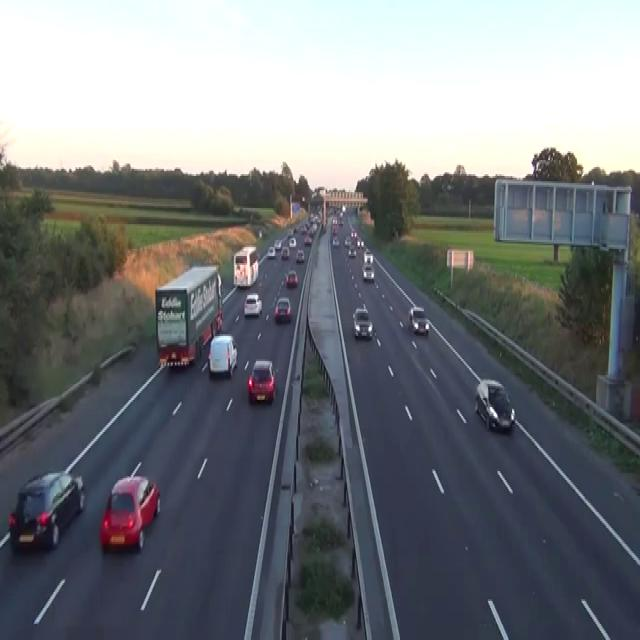Car: (8, 469, 85, 551), (99, 460, 160, 553), (474, 379, 515, 432), (207, 332, 237, 377), (247, 359, 276, 404), (352, 306, 373, 340), (408, 306, 429, 334), (243, 292, 262, 316), (274, 297, 291, 322), (286, 268, 298, 286), (362, 263, 374, 281), (363, 251, 373, 263), (296, 249, 304, 263), (281, 246, 289, 260), (267, 245, 275, 258), (348, 245, 356, 258), (273, 238, 281, 249), (304, 235, 312, 245), (300, 224, 307, 235), (357, 238, 364, 249), (233, 204, 241, 213), (332, 237, 339, 247), (289, 237, 296, 247), (344, 235, 351, 245), (331, 226, 338, 236), (446, 182, 454, 190), (331, 215, 337, 224), (350, 230, 356, 238), (338, 217, 343, 226), (356, 238, 360, 249), (287, 230, 293, 237), (258, 228, 262, 238), (360, 238, 364, 247), (292, 226, 297, 233)
Truck: (154, 265, 223, 368), (233, 245, 258, 288)
